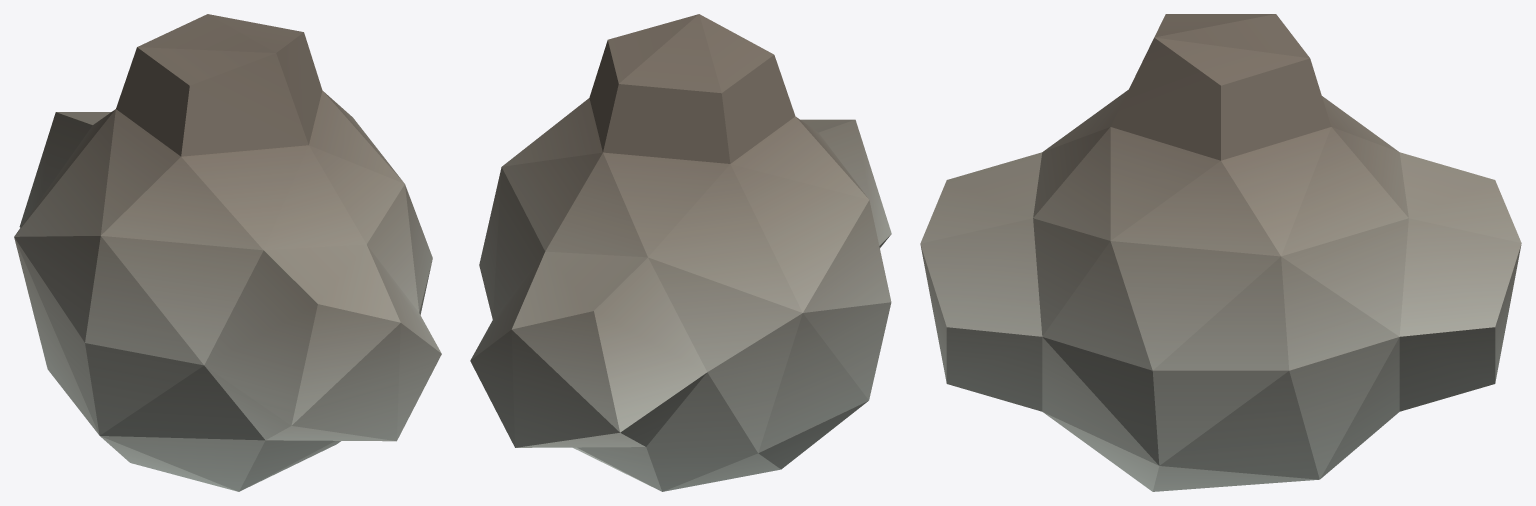
Rendered from ImpuroRoca.fbx.
The picture shows the model from 3 angles, left to right: view 1: azimuth 30°, elevation 25°; view 2: azimuth 150°, elevation 25°; view 3: azimuth 270°, elevation 25°; orthographic projection. The views are drawn at different scales.
Visible parts, largest first — view 1: Icosphere.010; view 2: Icosphere.010; view 3: Icosphere.010.
Boxes of the visible parts, x1=… form: Icosphere.010: x1=14, y1=14, x2=441, y2=491; Icosphere.010: x1=470, y1=14, x2=891, y2=491; Icosphere.010: x1=920, y1=14, x2=1521, y2=491.
Size of the model in its own units: 190 by 226 by 272.
